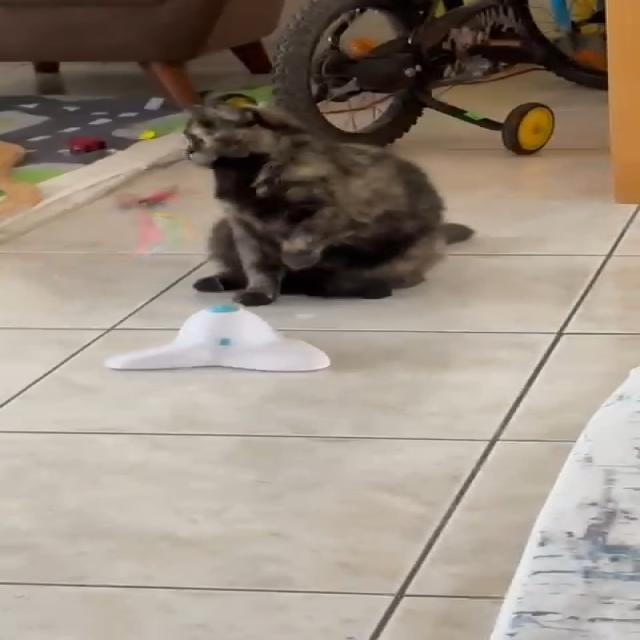authorized: (180, 88, 475, 306)
